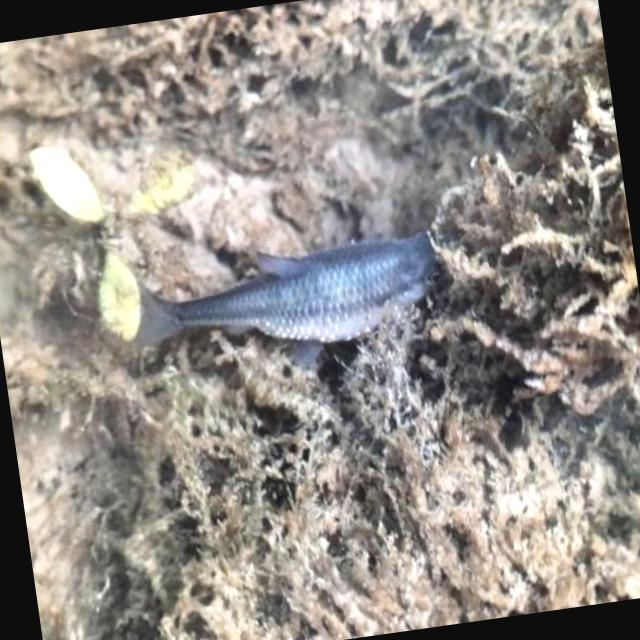Cakil Baligi: (100, 210, 456, 388)
